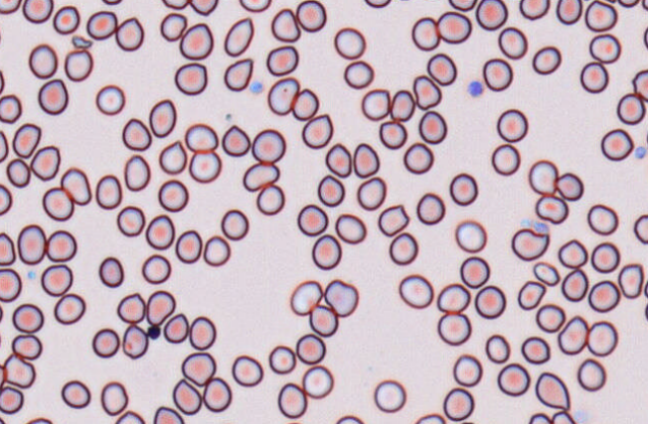PLT: (466, 81, 484, 98), (248, 79, 263, 95), (634, 146, 648, 161), (26, 268, 37, 282)
RBC: (534, 371, 570, 410), (323, 279, 358, 317), (179, 22, 213, 60), (251, 128, 286, 164), (267, 76, 299, 115), (557, 315, 588, 355), (223, 16, 254, 56), (181, 351, 216, 386), (398, 274, 433, 308), (60, 167, 91, 205), (17, 224, 46, 264), (290, 279, 322, 315), (301, 113, 333, 149), (37, 78, 68, 115), (497, 362, 530, 396), (437, 312, 471, 345), (3, 353, 35, 388), (42, 186, 74, 221), (587, 320, 618, 356), (172, 378, 202, 415), (242, 161, 279, 191), (148, 98, 176, 137), (188, 150, 221, 183), (373, 379, 406, 412), (40, 263, 73, 296), (333, 26, 366, 59), (600, 128, 633, 161), (174, 62, 207, 95), (442, 387, 474, 421), (301, 364, 333, 398), (437, 11, 471, 43), (496, 108, 528, 142), (277, 382, 307, 418), (528, 159, 558, 195), (588, 279, 620, 312), (454, 219, 486, 252), (436, 282, 470, 313), (474, 285, 505, 319), (202, 377, 232, 412), (145, 290, 175, 325), (311, 234, 341, 269), (145, 214, 175, 249), (270, 7, 300, 42), (28, 43, 58, 78), (30, 145, 60, 180), (12, 122, 41, 158), (231, 354, 263, 386), (157, 179, 188, 212), (297, 203, 328, 236), (45, 229, 76, 262), (584, 0, 617, 31), (452, 353, 482, 387), (184, 123, 218, 153), (121, 117, 151, 151), (356, 176, 386, 210), (223, 57, 253, 91), (482, 57, 512, 91), (412, 74, 441, 109), (115, 16, 144, 51), (123, 154, 150, 191), (53, 293, 85, 324), (459, 256, 490, 288), (295, 0, 326, 32), (334, 213, 366, 244), (587, 203, 618, 235), (266, 45, 298, 76), (497, 26, 527, 59), (388, 232, 418, 265), (426, 52, 456, 85), (403, 141, 433, 174), (158, 140, 187, 174), (411, 16, 440, 50), (418, 110, 447, 144), (188, 315, 216, 350), (352, 142, 379, 178), (12, 303, 44, 333), (475, 0, 507, 30), (590, 241, 620, 273), (589, 33, 621, 63), (309, 304, 338, 337), (577, 358, 606, 391), (616, 92, 645, 125), (64, 48, 93, 81), (449, 172, 478, 205), (100, 381, 128, 415), (325, 142, 352, 177), (95, 174, 122, 209), (295, 333, 325, 364), (557, 238, 588, 268), (86, 10, 117, 40), (141, 253, 171, 284), (95, 84, 125, 115), (256, 183, 285, 215), (116, 292, 145, 324), (220, 208, 249, 240), (221, 124, 250, 156), (361, 88, 390, 120), (491, 143, 520, 175), (416, 192, 445, 224), (561, 268, 588, 302), (175, 229, 202, 263), (617, 263, 643, 298), (116, 205, 145, 236), (343, 60, 374, 89), (317, 174, 345, 206), (580, 61, 608, 93), (122, 324, 148, 358), (535, 303, 565, 332), (517, 280, 546, 310), (378, 119, 407, 149), (292, 88, 319, 120), (532, 45, 561, 74), (60, 380, 90, 408), (11, 333, 42, 360), (92, 327, 119, 358), (203, 235, 230, 266), (521, 336, 550, 364), (159, 12, 187, 41), (268, 345, 296, 374), (52, 5, 80, 34), (163, 312, 189, 343), (98, 256, 124, 287), (390, 89, 415, 121), (556, 172, 583, 201), (0, 267, 22, 302), (485, 334, 510, 363), (6, 157, 30, 187), (22, 0, 53, 23), (532, 261, 560, 286), (0, 93, 22, 123), (0, 386, 23, 414), (556, 0, 582, 24), (519, 0, 549, 20), (153, 406, 184, 423), (0, 232, 15, 265), (632, 69, 647, 101), (189, 0, 218, 15), (633, 214, 647, 244), (114, 410, 145, 423), (238, 0, 271, 12), (0, 183, 12, 215), (551, 410, 576, 423), (413, 413, 445, 423), (448, 0, 476, 11), (0, 0, 21, 14), (335, 414, 364, 423), (0, 130, 8, 162), (528, 412, 551, 423), (161, 0, 188, 9), (364, 0, 391, 8), (24, 417, 52, 423), (617, 0, 640, 7), (0, 363, 6, 389), (0, 69, 5, 94), (643, 26, 648, 49), (101, 0, 122, 5), (283, 420, 304, 424), (644, 301, 648, 321), (644, 278, 648, 298), (457, 420, 476, 424), (641, 0, 648, 10), (0, 302, 3, 322), (0, 19, 2, 47), (646, 126, 648, 148), (419, 0, 442, 1), (395, 0, 416, 1)
Schistocyte: (512, 227, 552, 262), (377, 204, 412, 237), (535, 195, 571, 224), (71, 35, 93, 49)
